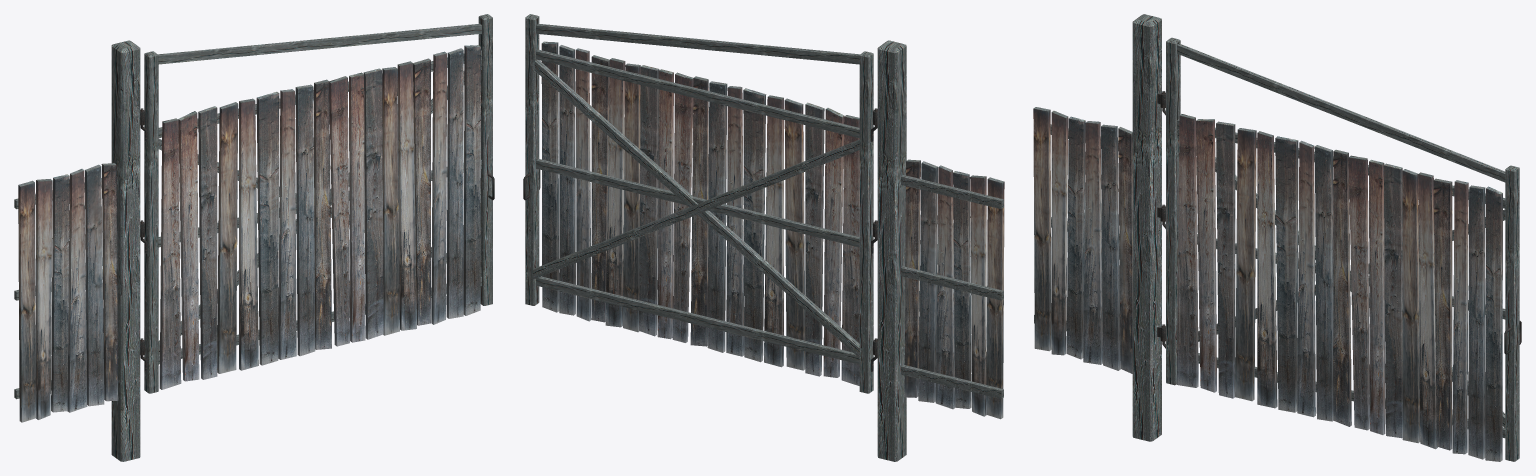
Rendered from WoodFenceBigGate.FBX.
3 views of the same model, side by side, from view 1: azimuth 30°, elevation 25°; view 2: azimuth 150°, elevation 25°; view 3: azimuth 330°, elevation 25° (orthographic).
Parts seen in each view (by area): view 1: WoodFenceBigGateDoor, WoodFenceBigGatePole; view 2: WoodFenceBigGateDoor, WoodFenceBigGatePole; view 3: WoodFenceBigGateDoor, WoodFenceBigGatePole.
Boxes of the visible parts, bbox=[...] form: WoodFenceBigGateDoor: bbox=[140, 14, 494, 393]; WoodFenceBigGatePole: bbox=[14, 40, 144, 461]; WoodFenceBigGateDoor: bbox=[523, 14, 877, 393]; WoodFenceBigGatePole: bbox=[873, 40, 1004, 461]; WoodFenceBigGateDoor: bbox=[1162, 37, 1521, 461]; WoodFenceBigGatePole: bbox=[1033, 14, 1165, 441].
Size of the model in its own units: 60.04 by 49.62 by 3.46.
